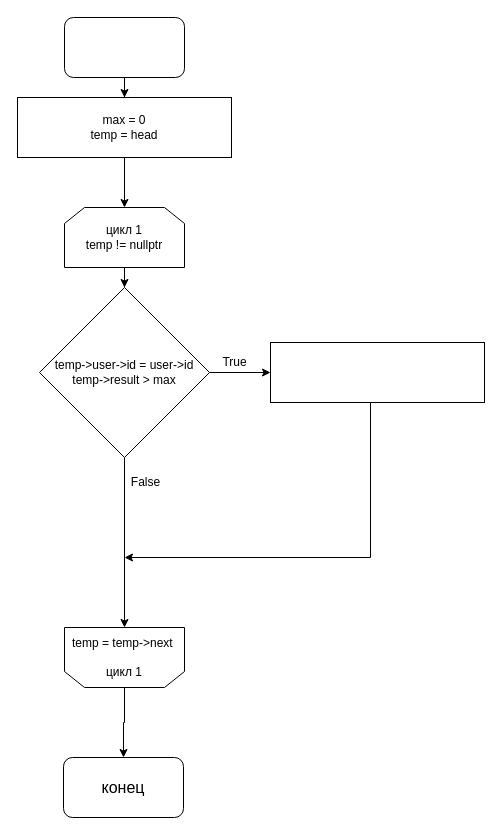
Image size: 502x835. Some labels were removed from this diagram. Each missing label, with the centre of its shape:
"max = temp->result" goes at pixel 377 372.
"начало" goes at pixel 124 47.
